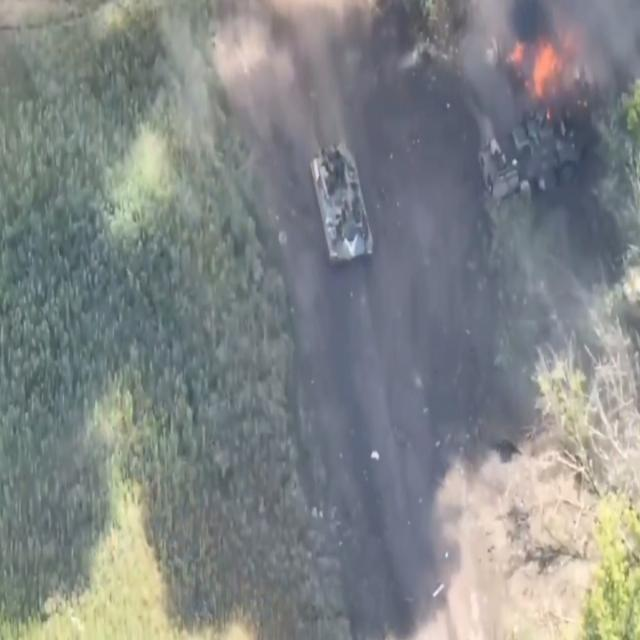apc: (309, 142, 374, 265)
destroyed: (477, 116, 579, 203)
